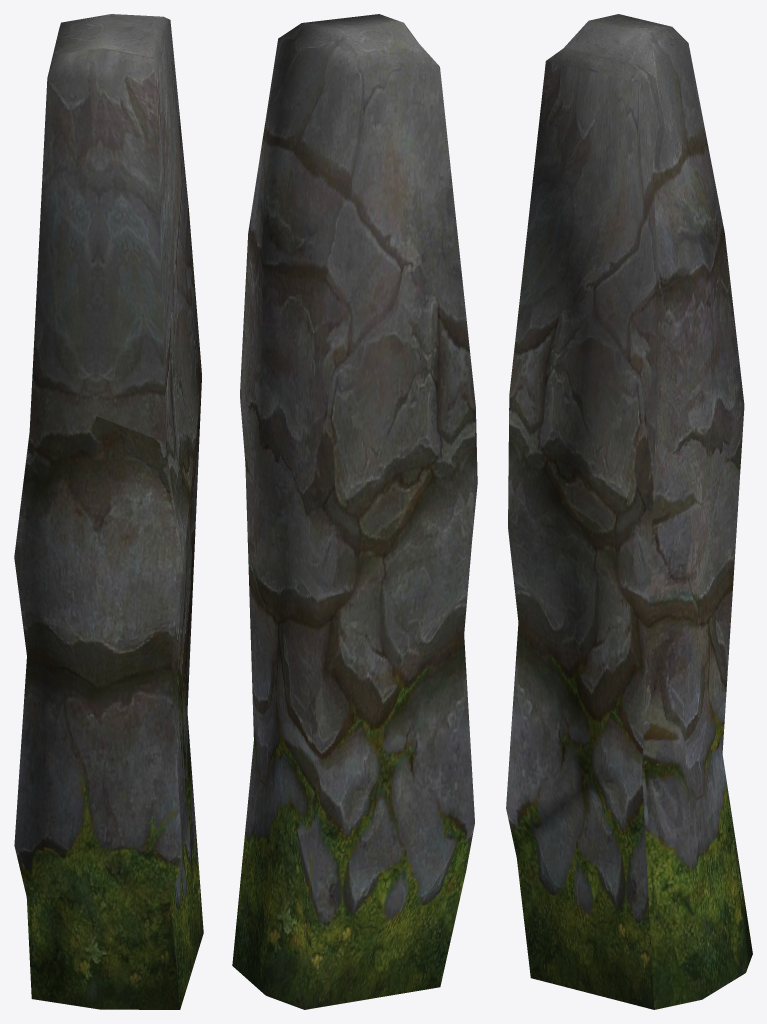
The model's file is THL2_3.fbx.
3 renders of one model, left to right at view 1: azimuth 30°, elevation 25°; view 2: azimuth 150°, elevation 25°; view 3: azimuth 270°, elevation 25°, orthographic.
Visible parts, largest first — view 1: taohualin:_Mesh_polySurface1386; view 2: taohualin:_Mesh_polySurface1386; view 3: taohualin:_Mesh_polySurface1386.
Part boxes in pixels (x1=…): taohualin:_Mesh_polySurface1386: x1=14, y1=14, x2=203, y2=1009; taohualin:_Mesh_polySurface1386: x1=232, y1=14, x2=477, y2=1009; taohualin:_Mesh_polySurface1386: x1=506, y1=14, x2=752, y2=1009.
Size of the model in its own units: 4.59 by 19.6 by 4.67.
